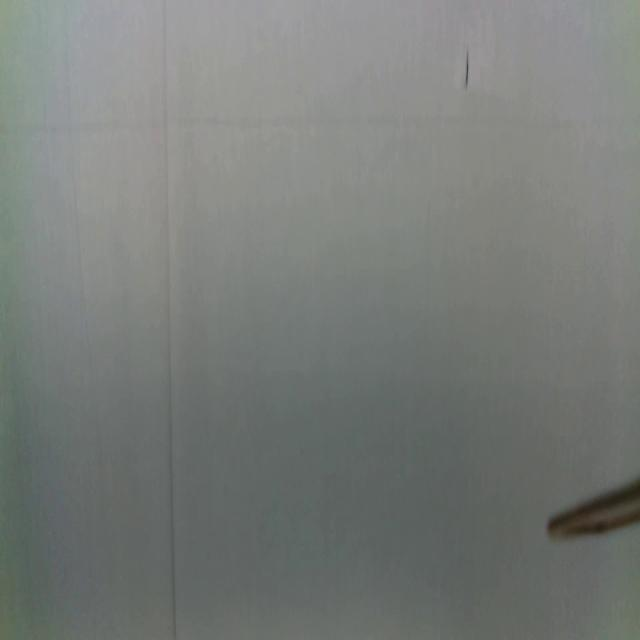crease: (162, 1, 178, 640)
hole: (464, 50, 471, 86)
